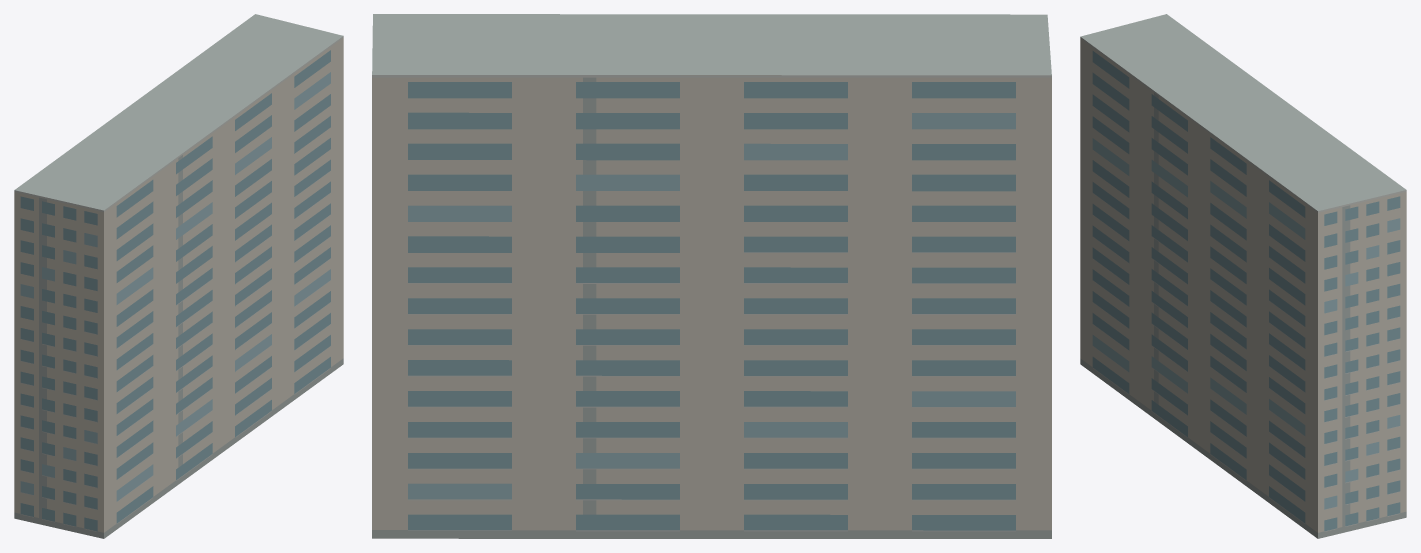
File: residential-d7129b5e-baac-4158-8b5b-669416d6f39f.glb
3 views of the same model, side by side, from view 1: azimuth 30°, elevation 25°; view 2: azimuth 150°, elevation 25°; view 3: azimuth 270°, elevation 25° (orthographic). The views are drawn at different scales.
Visible parts, largest first — view 1: residential-d7129b5e-baac-4158-8b5b-669416d6f39f.tmp; view 2: residential-d7129b5e-baac-4158-8b5b-669416d6f39f.tmp; view 3: residential-d7129b5e-baac-4158-8b5b-669416d6f39f.tmp.
Boxes of the visible parts, <box> form: residential-d7129b5e-baac-4158-8b5b-669416d6f39f.tmp: <box>14,14,343,538</box>; residential-d7129b5e-baac-4158-8b5b-669416d6f39f.tmp: <box>372,14,1051,538</box>; residential-d7129b5e-baac-4158-8b5b-669416d6f39f.tmp: <box>1080,14,1406,538</box>.
Bounding box in the file's own units: 59.06 × 45.75 × 41.3.
